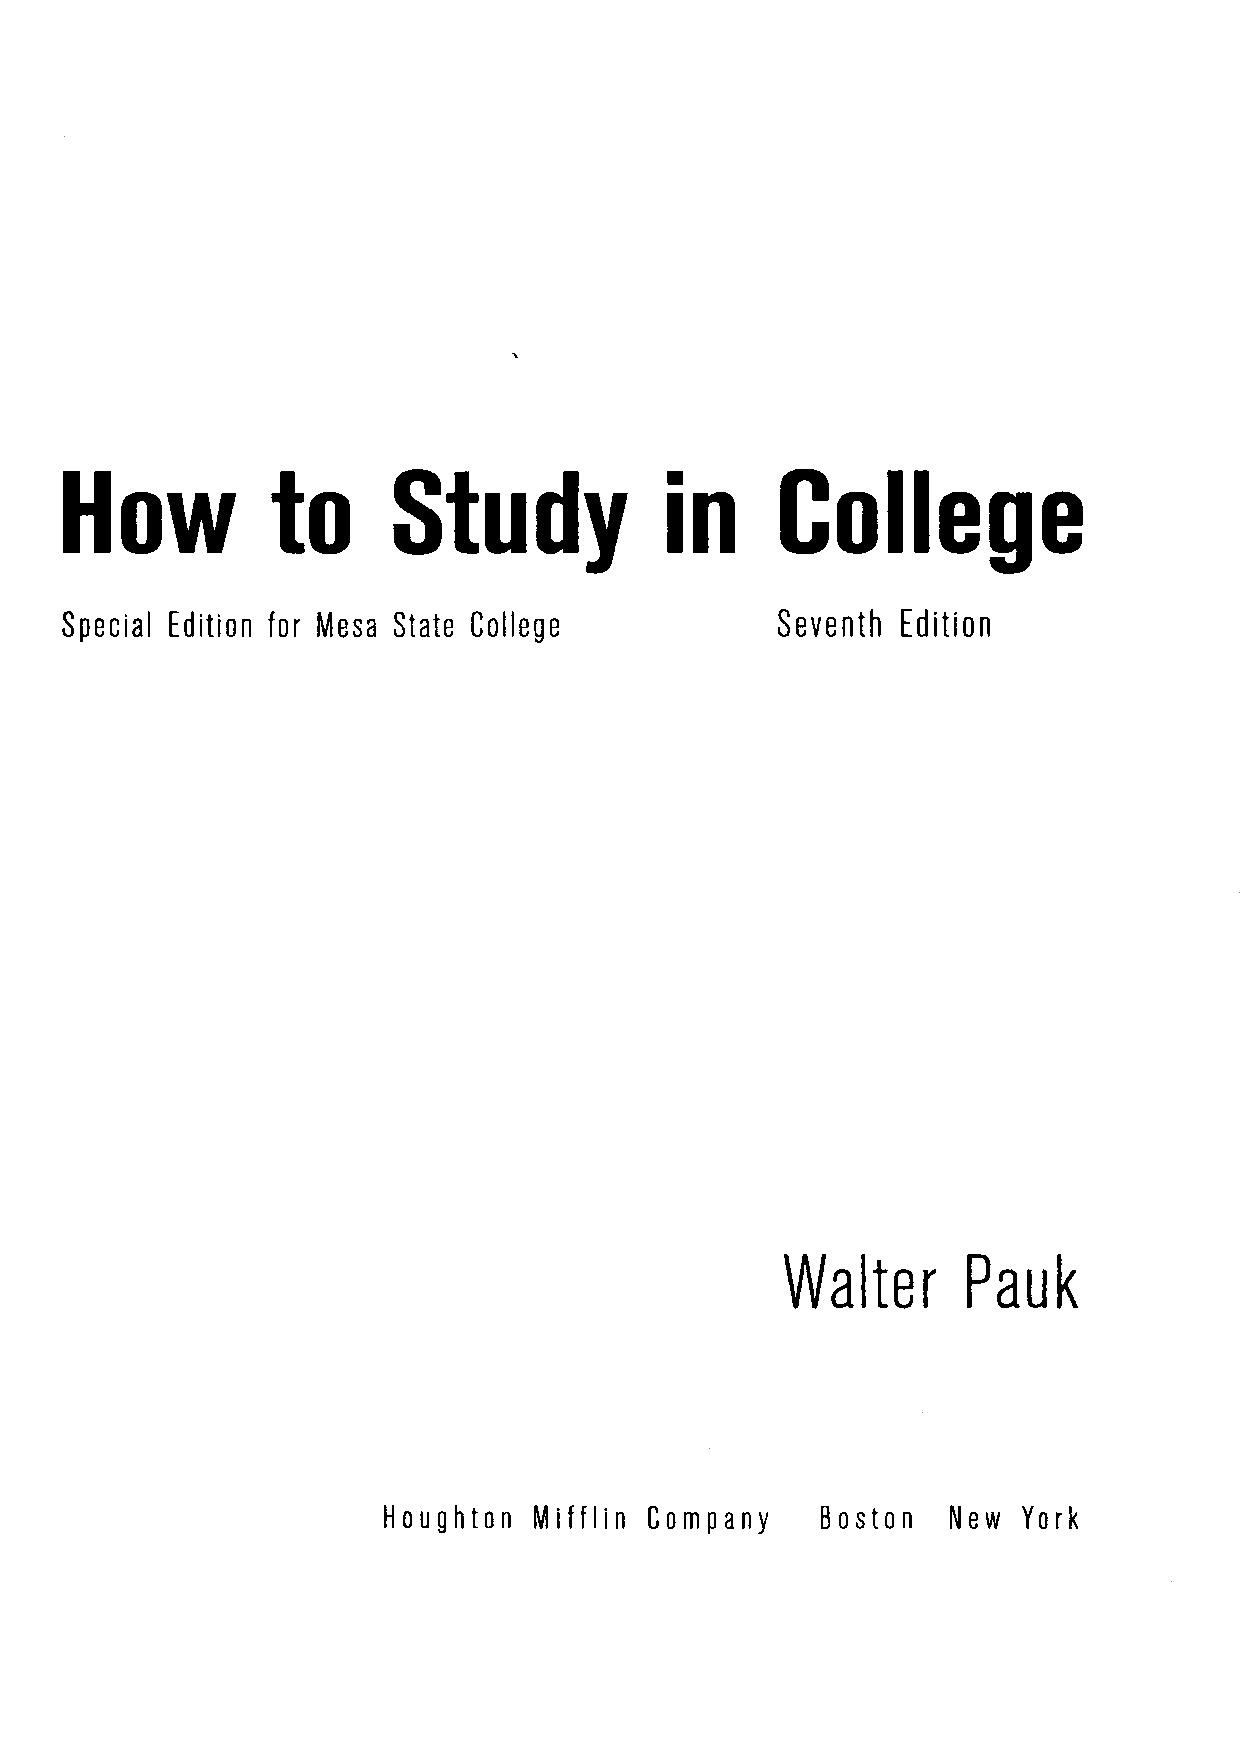author: (776, 1249, 1078, 1312)
title: (56, 464, 1084, 577)
